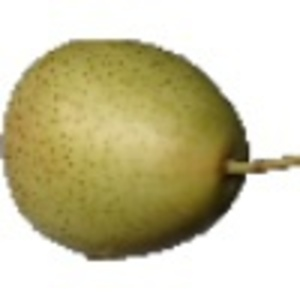pera: (1, 36, 300, 263)
